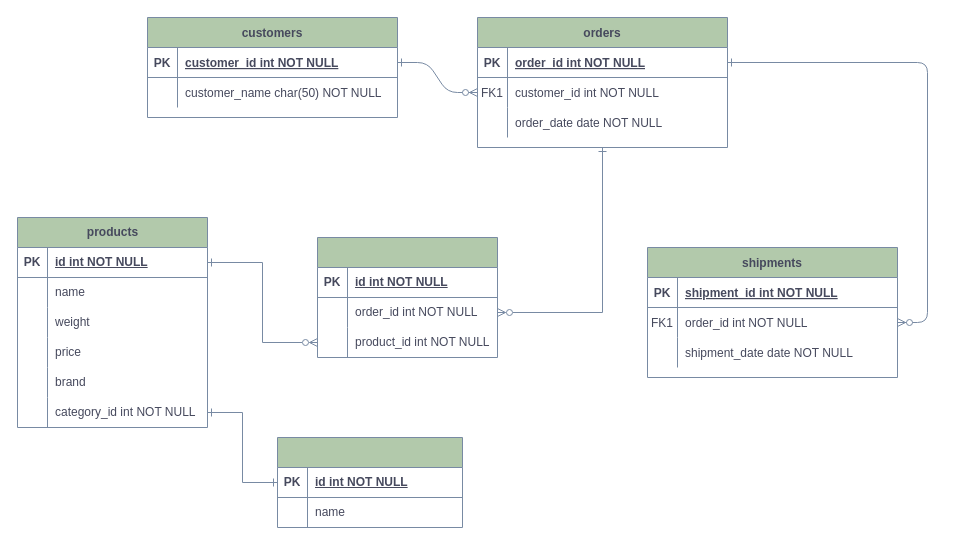
Some shapes in this 954 by 545 pixel diagram are drawn without their labels. The shapes that lost their labels are listed below. From the top down, each one's box as (x1, y1, x2, y2) in pixels, then its label:
(316, 236, 498, 358): order_product
(276, 436, 462, 528): categories
